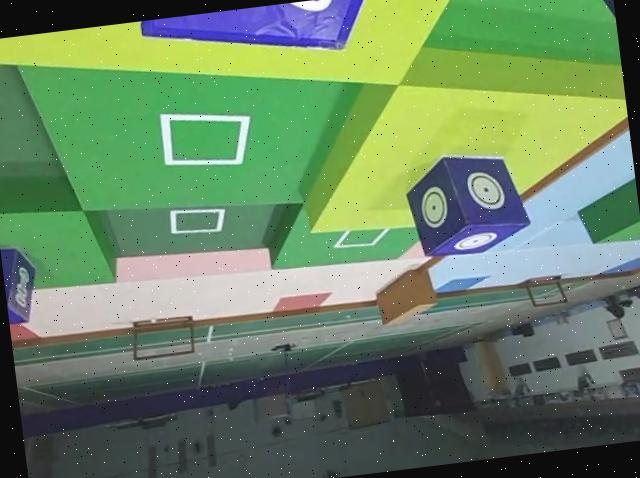R2 Real Blue: (402, 144, 536, 260), (0, 236, 39, 323), (567, 0, 619, 56)
